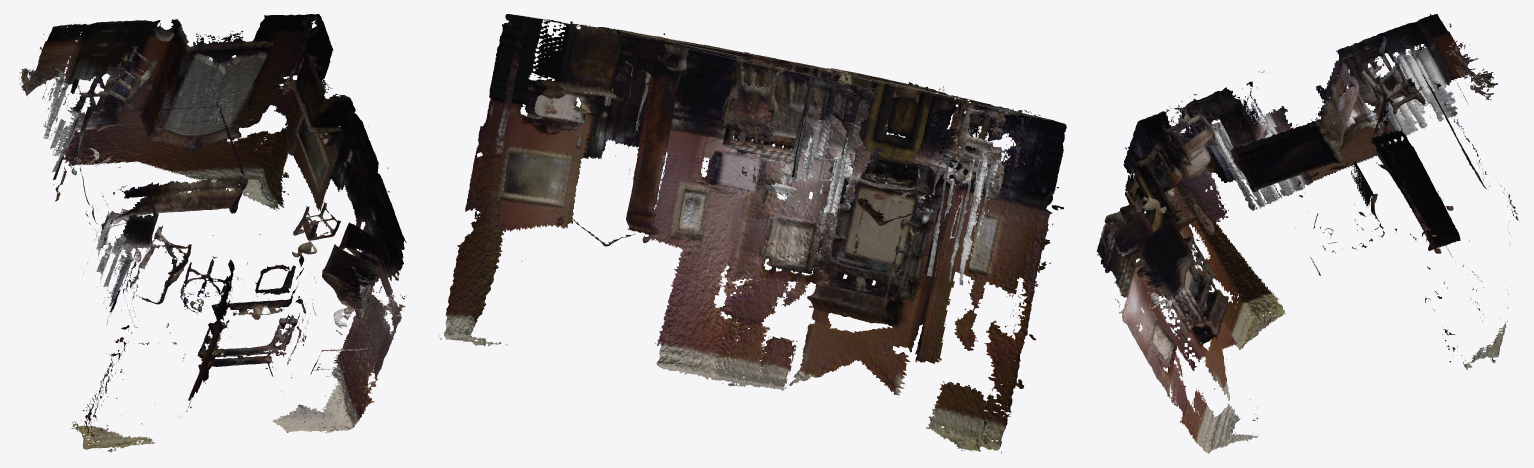
File: gap-guided-observed.glb
3 views of the same model, side by side, from view 1: azimuth 30°, elevation 25°; view 2: azimuth 150°, elevation 25°; view 3: azimuth 270°, elevation 25° (orthographic). The views are drawn at different scales.
Visible parts, largest first — view 1: world; view 2: world; view 3: world.
Boxes of the visible parts, box(x1,y1,x2,y2) form: world: box(19, 14, 406, 452); world: box(439, 14, 1066, 453); world: box(1096, 14, 1518, 453).
Size of the model in its own units: 6.01 by 6.45 by 7.01.
